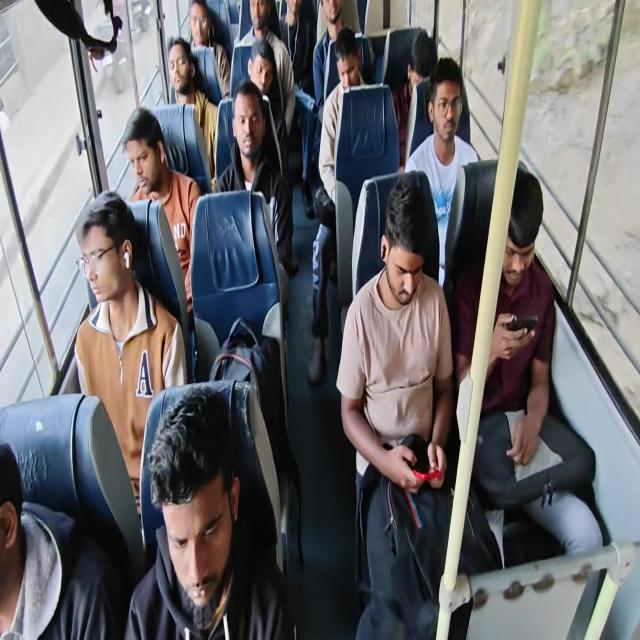person: (144, 389, 258, 640), (75, 205, 167, 372), (0, 426, 64, 639), (467, 177, 542, 321), (360, 183, 418, 310), (128, 101, 170, 230), (228, 78, 268, 190), (167, 35, 210, 133), (431, 77, 476, 163), (239, 46, 279, 109), (190, 0, 231, 53), (344, 39, 372, 110), (406, 36, 432, 92), (284, 0, 309, 45), (249, 0, 274, 43), (324, 0, 349, 42)
